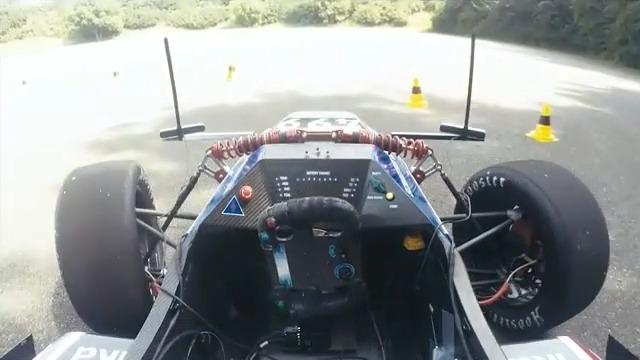yellow_cone: (523, 99, 557, 143), (107, 68, 130, 102), (405, 76, 428, 109), (224, 61, 242, 90), (16, 78, 31, 107)
